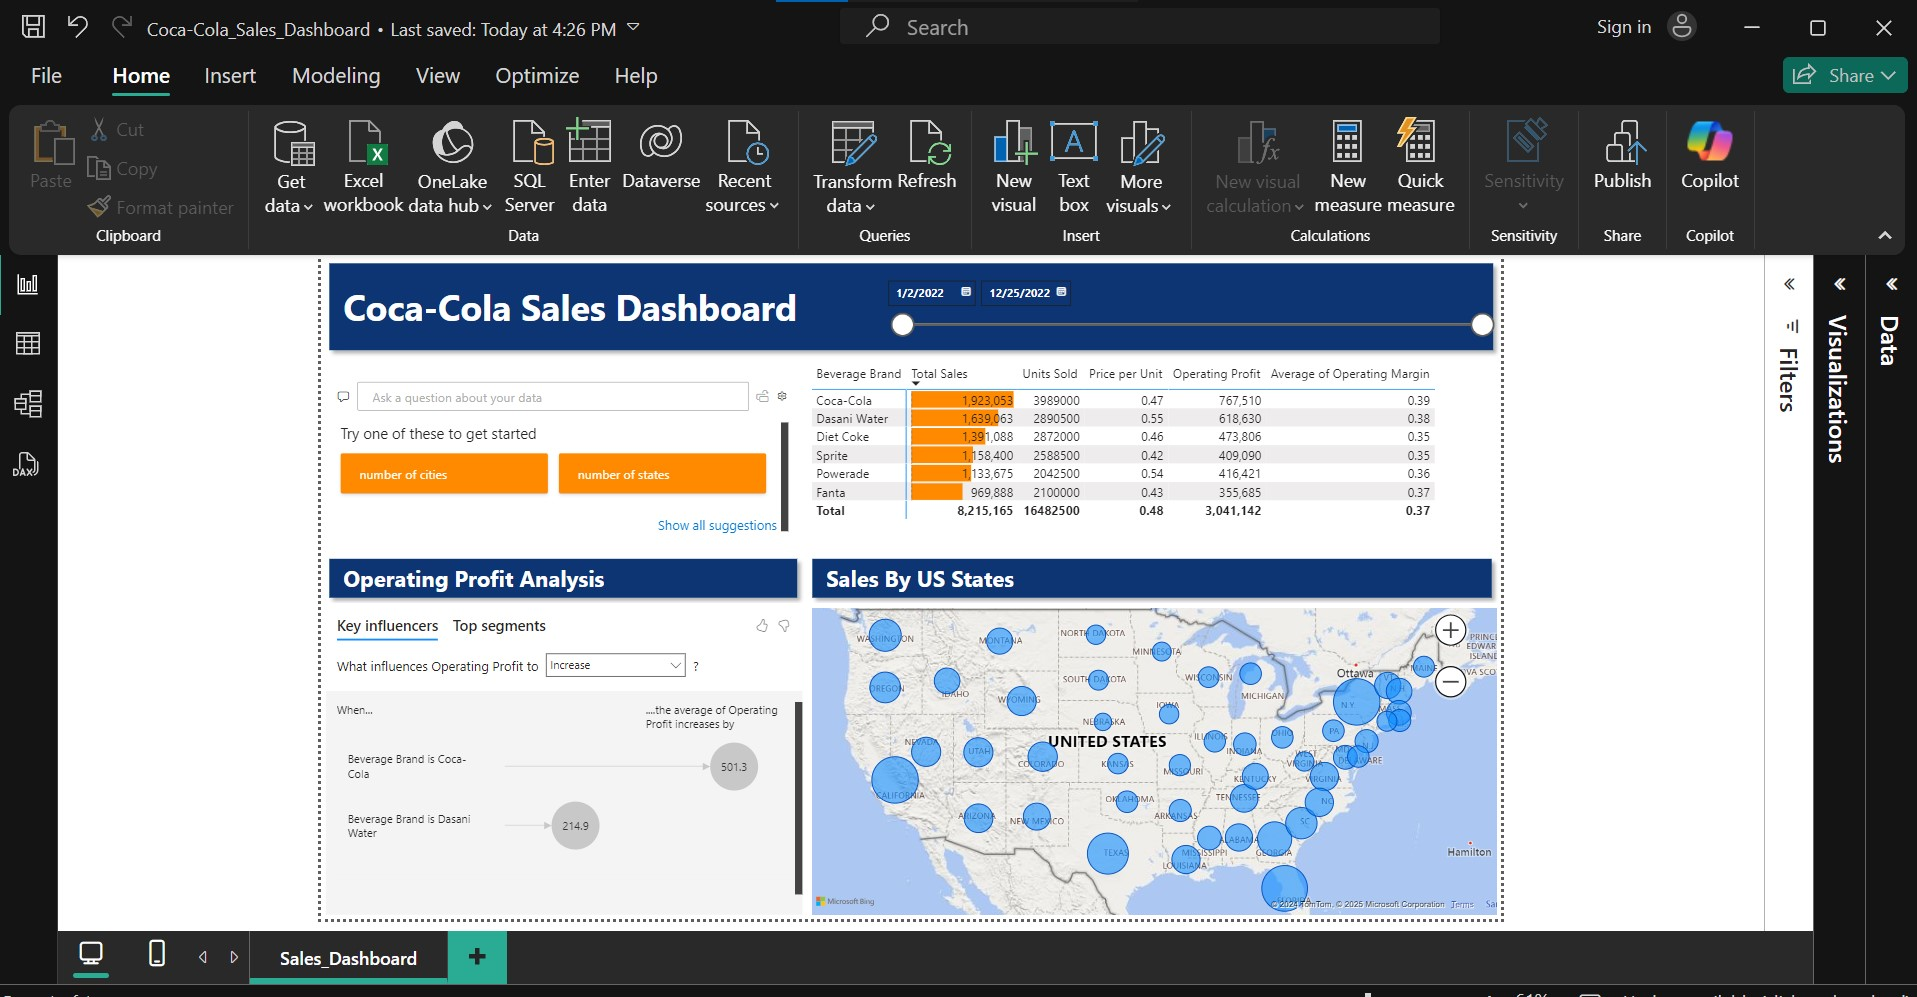

The page's visual inventory and layout, read from the dashboard file:
{"tool":"powerbi","page":{"name":"Sales_Dashboard","canvas":[1280,720],"ordinal":0},"visuals":[{"type":"shape","box":[0,0,1280.1,112.2],"z":0},{"type":"shape","box":[0,320.4,525.4,60.2],"z":1000},{"type":"shape","box":[523.7,320.4,754.7,60.2],"z":2000},{"type":"qnaVisual","box":[8.1,112.2,507.5,203.3],"z":3000},{"type":"keyDriversVisual","fields":{"Target":["Data.Operating Profit"],"ExplainBy":["Data.Beverage Brand"]},"box":[0,377.4,527,343.2],"z":4000},{"type":"map","fields":{"Category":["Data.State"],"Size":["Sum(Data.Total Sales)"]},"box":[527,377.4,753.1,343.2],"z":5000},{"type":"pivotTable","fields":{"Rows":["Data.Beverage Brand"],"Values":["Sum(Data.Total Sales)","Sum(Data.Units Sold)","Avg(Data.Price per Unit)","Sum(Data.Operating Profit)","Avg(Data.Operating Margin)"]},"box":[527,112.2,753.1,214.7],"z":5001},{"type":"slicer","fields":{"Values":["Data.Invoice Date"]},"box":[601.8,17.9,678.3,78.1],"z":5002}]}

Visuals, with their boxes on the page's 1280x720 design canvas (x1, y1, x2, y2). These are canvas units, not pixel positions in the 1917x997 screenshot, which may show the page scaled, cropped or inside an application window:
shape: (0, 0, 1280, 112)
shape: (0, 320, 525, 381)
shape: (524, 320, 1278, 381)
qnaVisual: (8, 112, 516, 316)
keyDriversVisual - Data.Operating Profit x Data.Beverage Brand: (0, 377, 527, 721)
map - Data.State x Sum(Data.Total Sales): (527, 377, 1280, 721)
pivotTable - Data.Beverage Brand x Sum(Data.Total Sales): (527, 112, 1280, 327)
slicer - Data.Invoice Date: (602, 18, 1280, 96)
